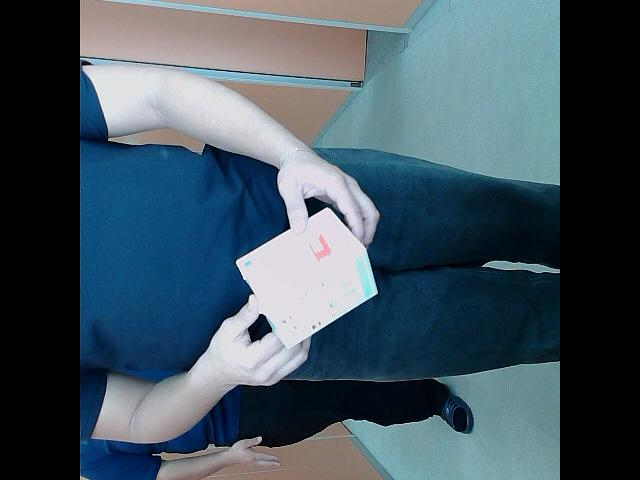Blind_box: (233, 197, 385, 352)
